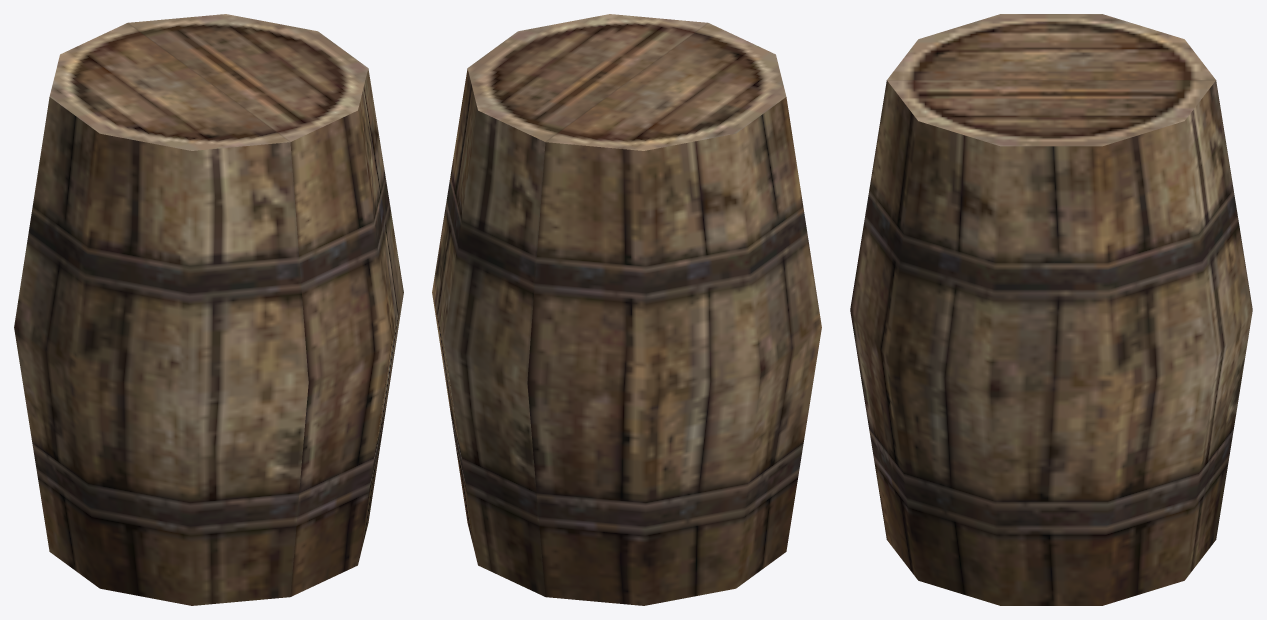
The model's file is wood_barrel.glb.
The picture shows the model from 3 angles, left to right: view 1: azimuth 30°, elevation 25°; view 2: azimuth 150°, elevation 25°; view 3: azimuth 270°, elevation 25°; orthographic projection.
Parts seen in each view (by area): view 1: wood_barrel; view 2: wood_barrel; view 3: wood_barrel.
Boxes of the visible parts, x1,y1,x2,y2 form: wood_barrel: [14, 14, 403, 605]; wood_barrel: [432, 14, 821, 605]; wood_barrel: [850, 14, 1252, 605].
Size of the model in its own units: 0.9551 by 1.26 by 1.
Materials: 1 (1 with a texture image).
